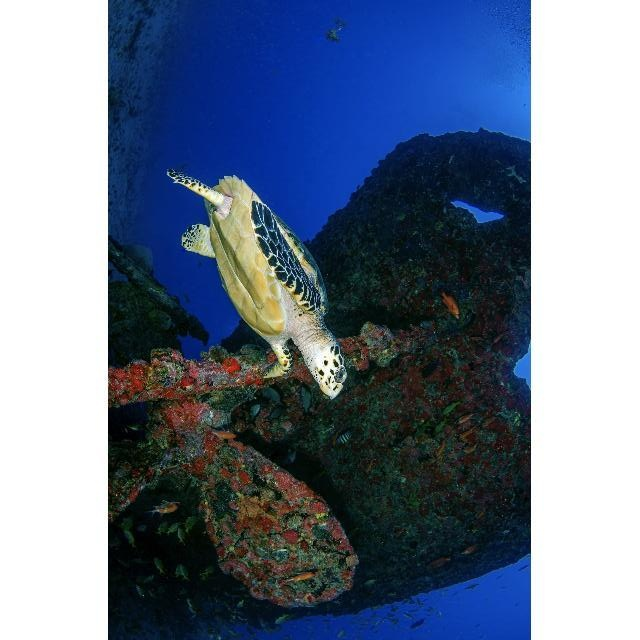turtle: (166, 168, 349, 400)
